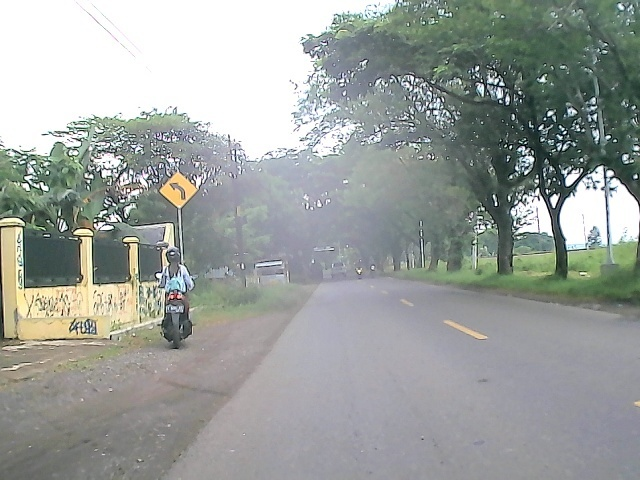Tikungan ke kiri: (158, 171, 201, 209)
